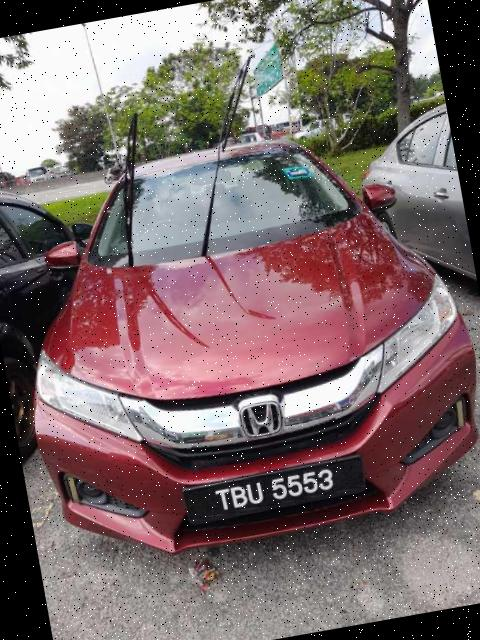License_Plate: (180, 452, 370, 527)
car: (1, 100, 480, 574)
